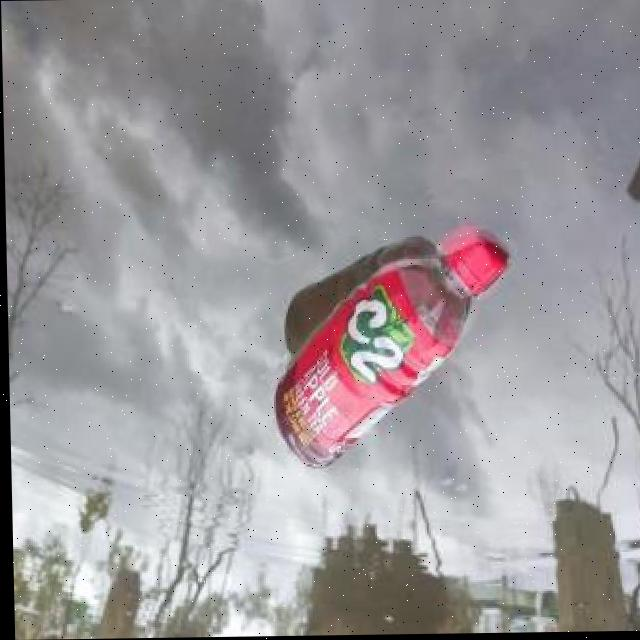bottle: (265, 222, 515, 477)
